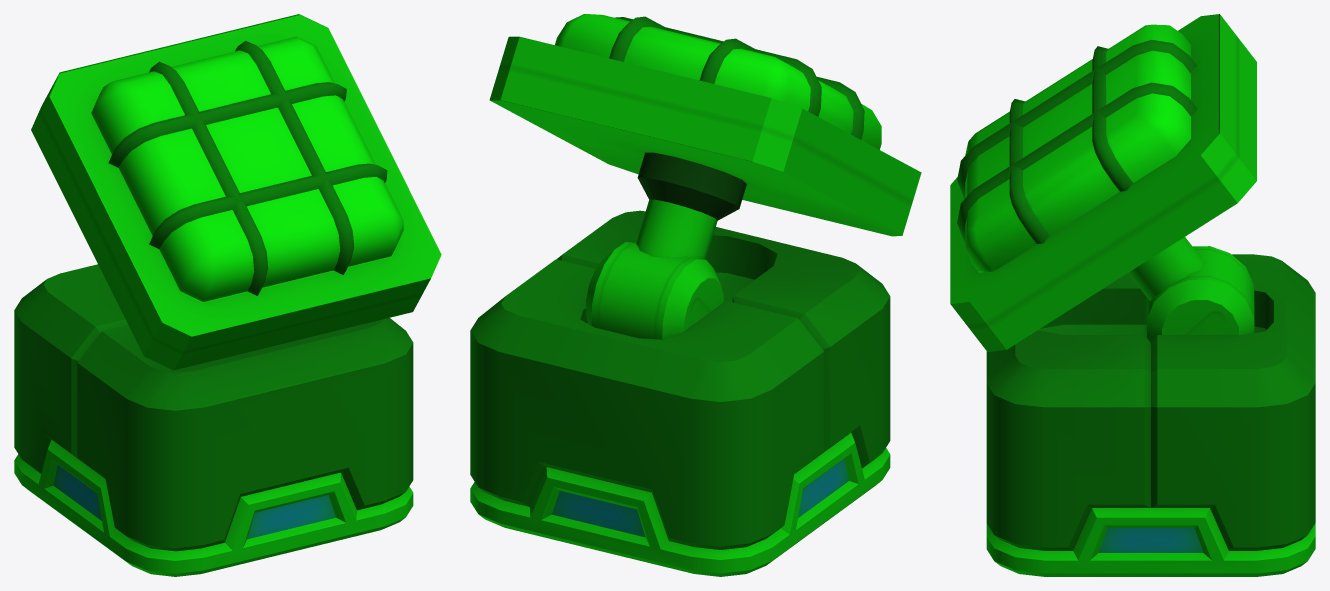
File: obj_factory_solarpanel_01.fbx
3 renders of one model, left to right at view 1: azimuth 30°, elevation 25°; view 2: azimuth 150°, elevation 25°; view 3: azimuth 270°, elevation 25°, orthographic. The views are drawn at different scales.
Visible parts, largest first — view 1: solarpanelblock_01_lp; view 2: solarpanelblock_01_lp; view 3: solarpanelblock_01_lp.
Part boxes in pixels (left/top/right/bottom): solarpanelblock_01_lp: left=14, top=14, right=441, bottom=576; solarpanelblock_01_lp: left=470, top=14, right=921, bottom=576; solarpanelblock_01_lp: left=950, top=14, right=1315, bottom=576.
Size of the model in its own units: 1.5 by 2.26 by 1.66.
